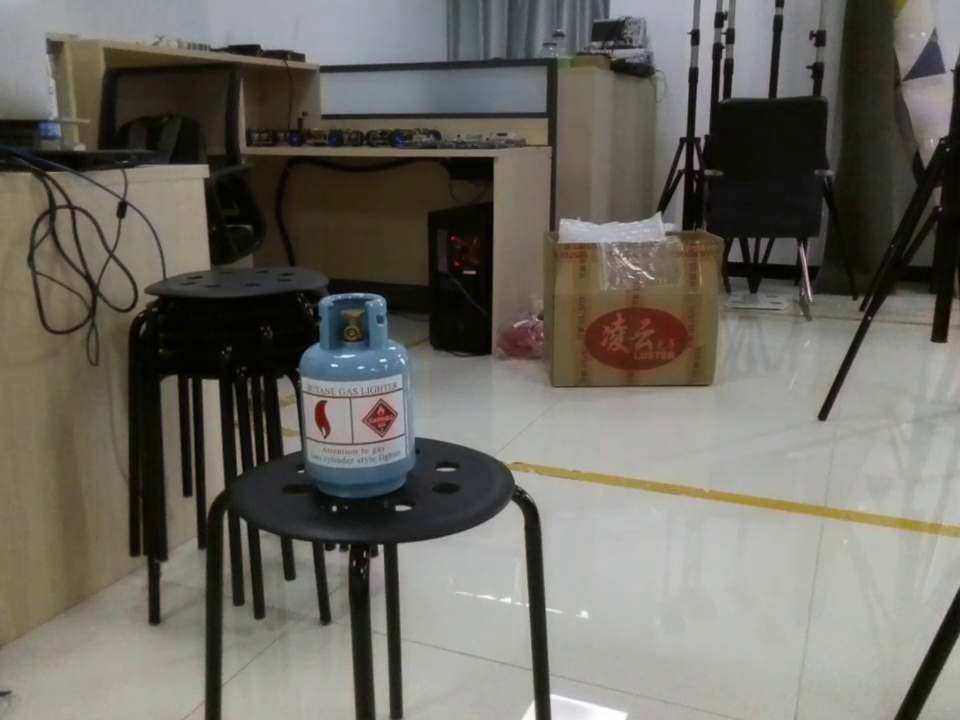gas tank: (293, 287, 426, 503)
